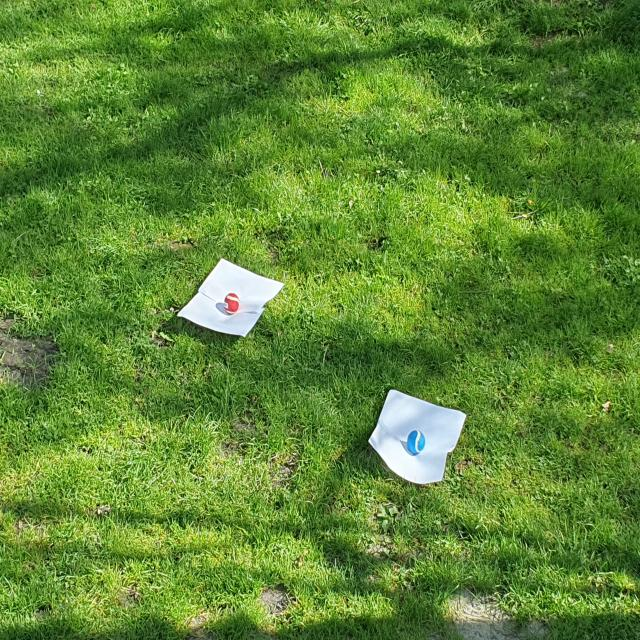blue: (407, 430, 425, 455)
red: (224, 292, 240, 314)
